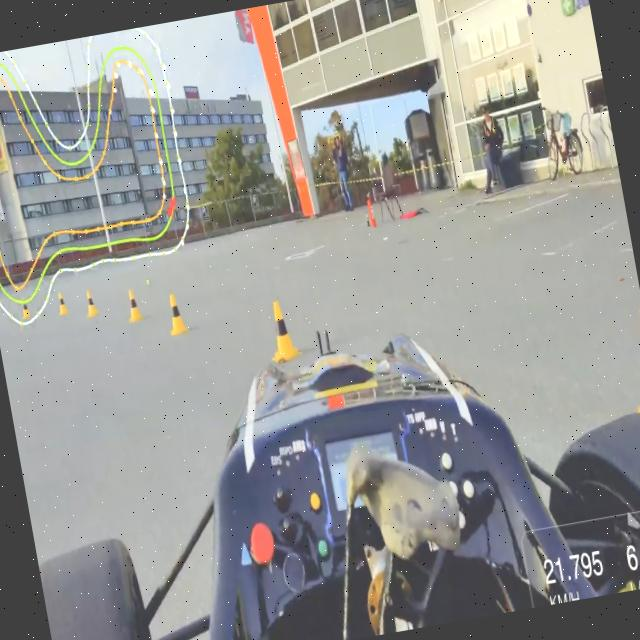yellow_cone: (612, 302, 640, 437), (259, 294, 304, 370), (163, 293, 188, 339), (124, 288, 144, 326), (82, 288, 100, 320), (56, 290, 70, 317), (20, 296, 32, 325)
